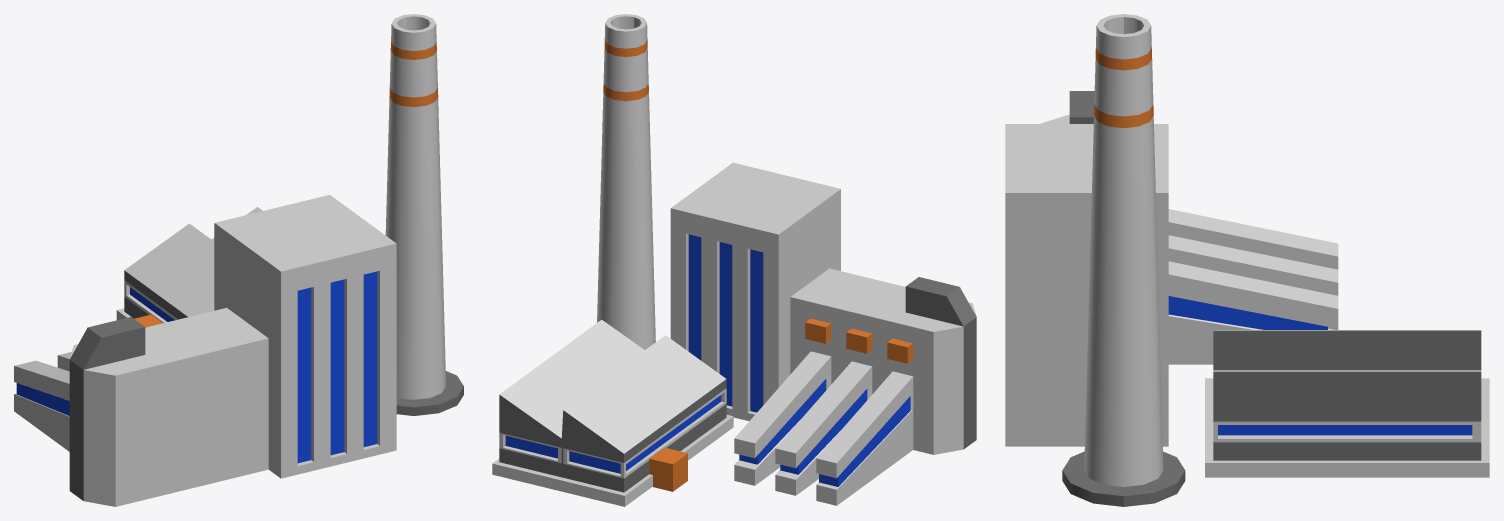
File: factory.fbx
3 views of the same model, side by side, from view 1: azimuth 30°, elevation 25°; view 2: azimuth 150°, elevation 25°; view 3: azimuth 270°, elevation 25° (orthographic). The views are drawn at different scales.
Parts seen in each view (by area): view 1: factory; view 2: factory; view 3: factory.
Part boxes in pixels (box(x1,y1,x2,y2)): factory: box(14, 14, 463, 506); factory: box(492, 14, 976, 506); factory: box(1005, 14, 1489, 506).
Bounding box in the file's own units: 242 × 220 × 210.
